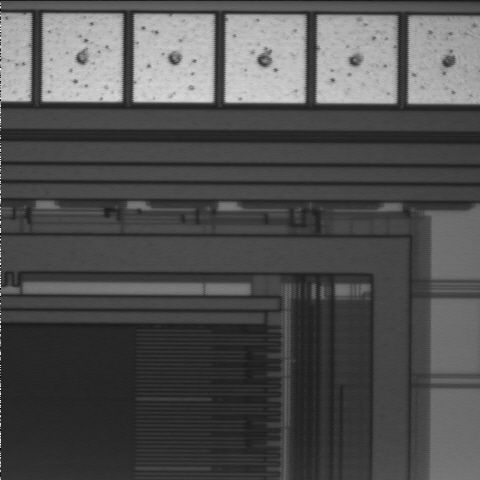pad: (43, 15, 122, 102), (134, 15, 213, 102), (225, 16, 304, 103), (317, 17, 395, 103)
